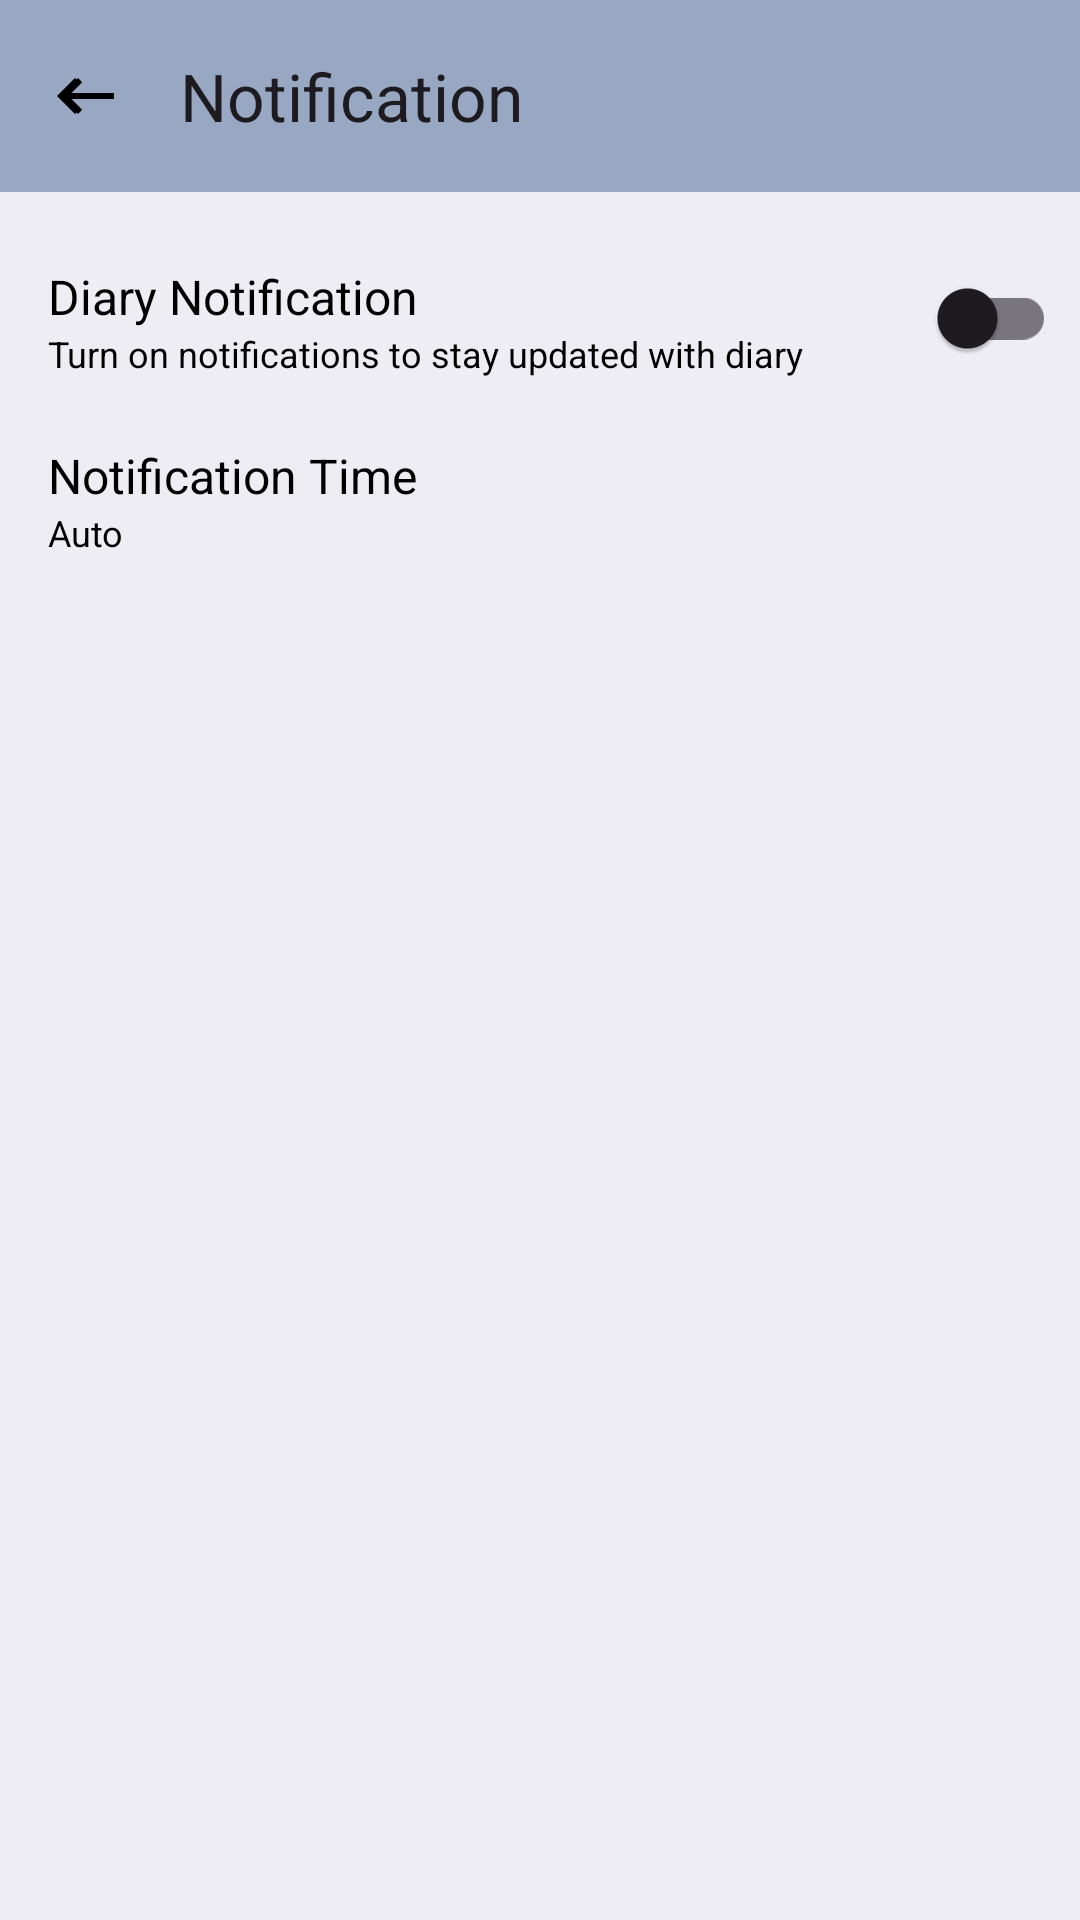

Named icons in this screenshot (1080×1920) and their centers, [x,y]:
back: [85,96]
